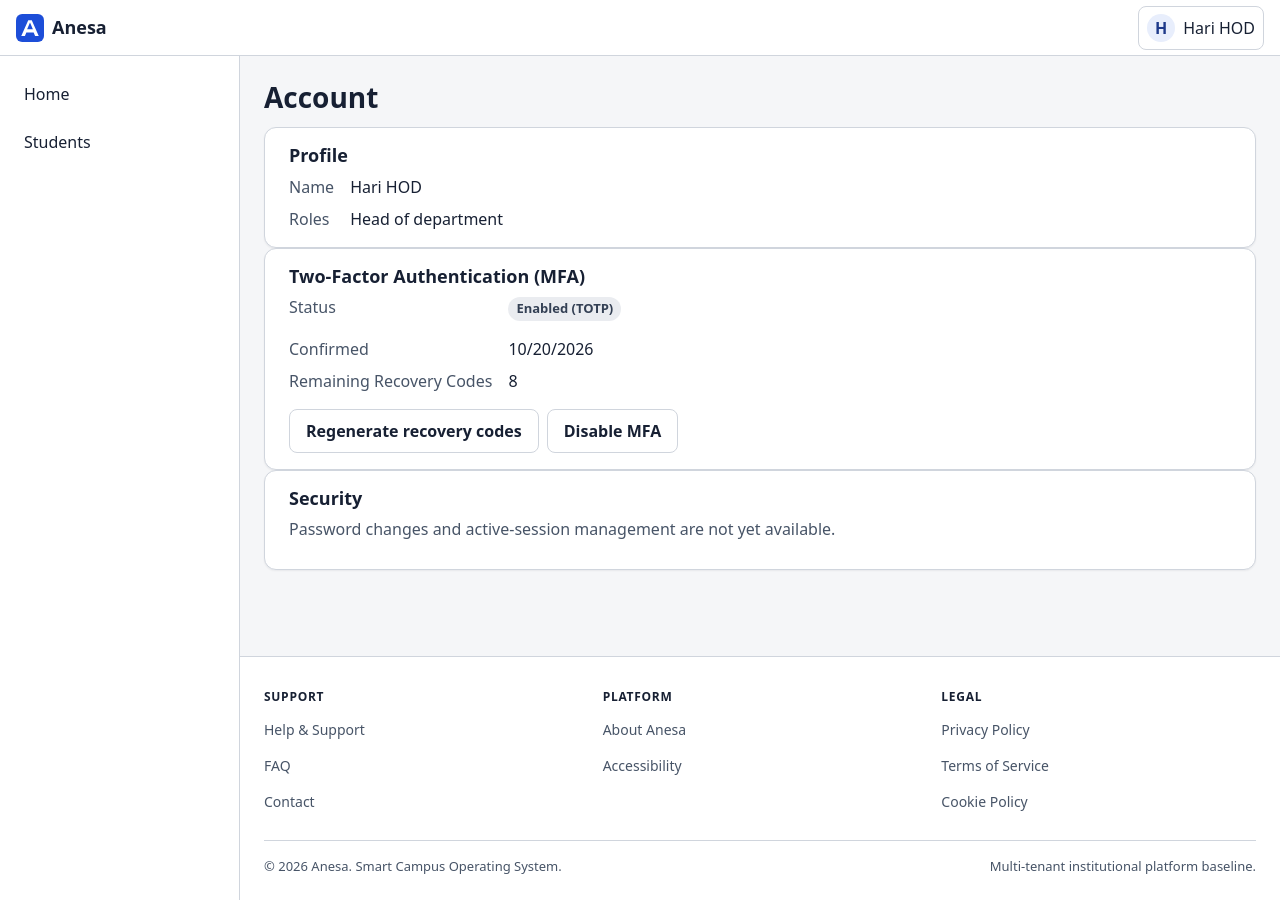
it: step-up on a CRITICAL operation (second factor, the backend default PASSWORD_MFA) › prompts, verifies with the authenticator code, then retries the operation exactly once
Click the button "Regenerate recovery codes" at {"x": 414, "y": 430}, box [289,408,539,452]
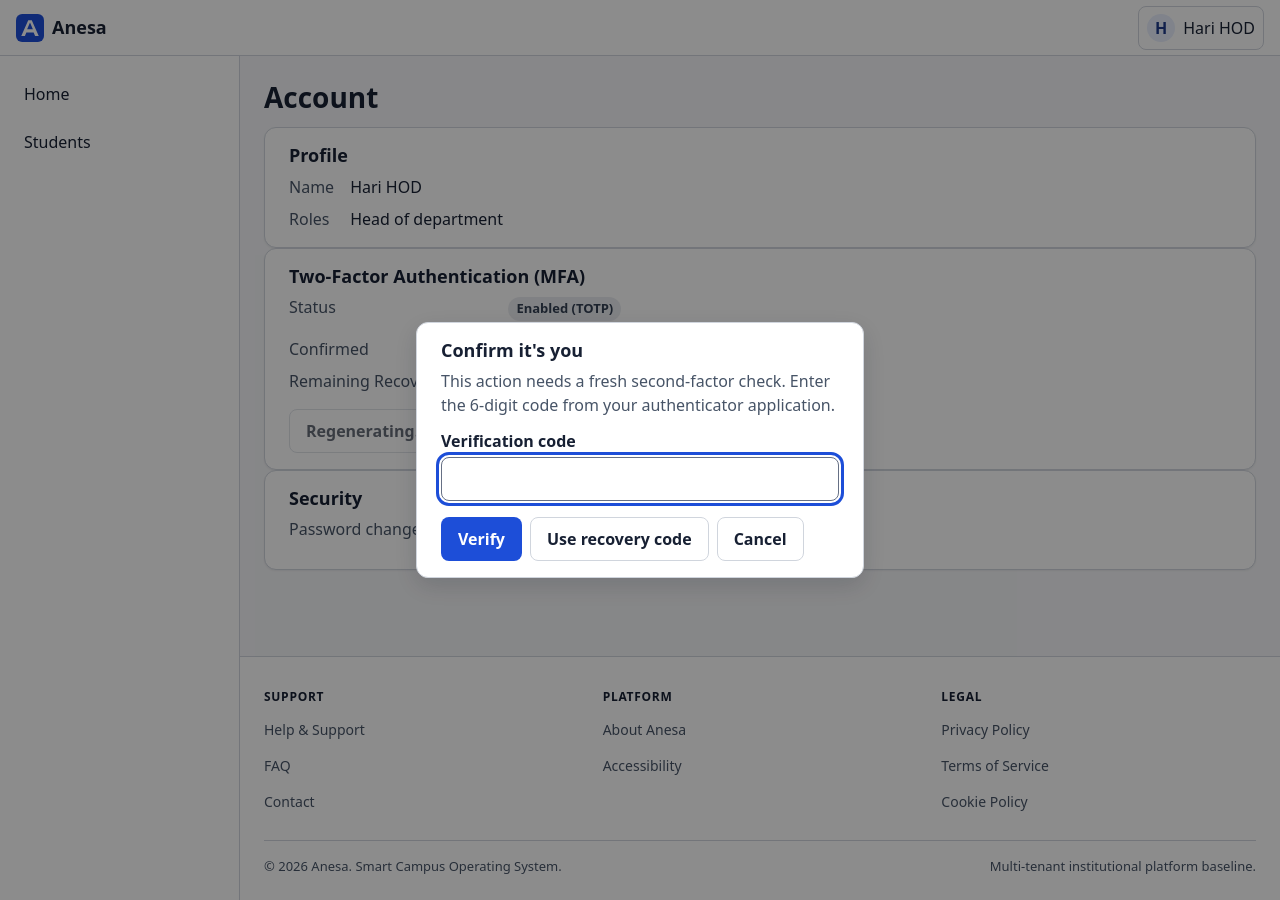
Type "123456" into the field labelled "Verification code" at {"x": 640, "y": 479}, box [441,457,839,501]
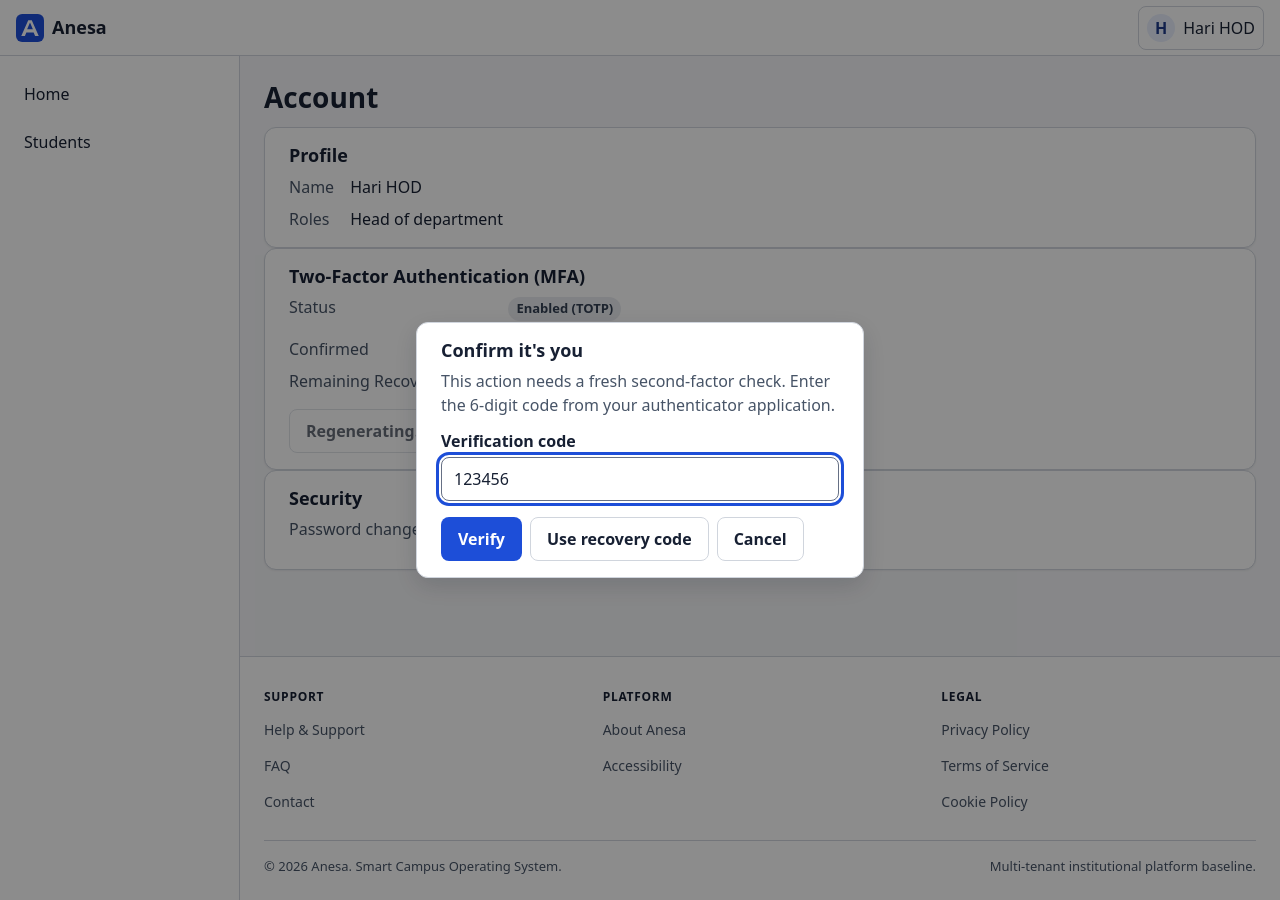
Click the button "Verify" at {"x": 482, "y": 539}, box [441,517,522,561]
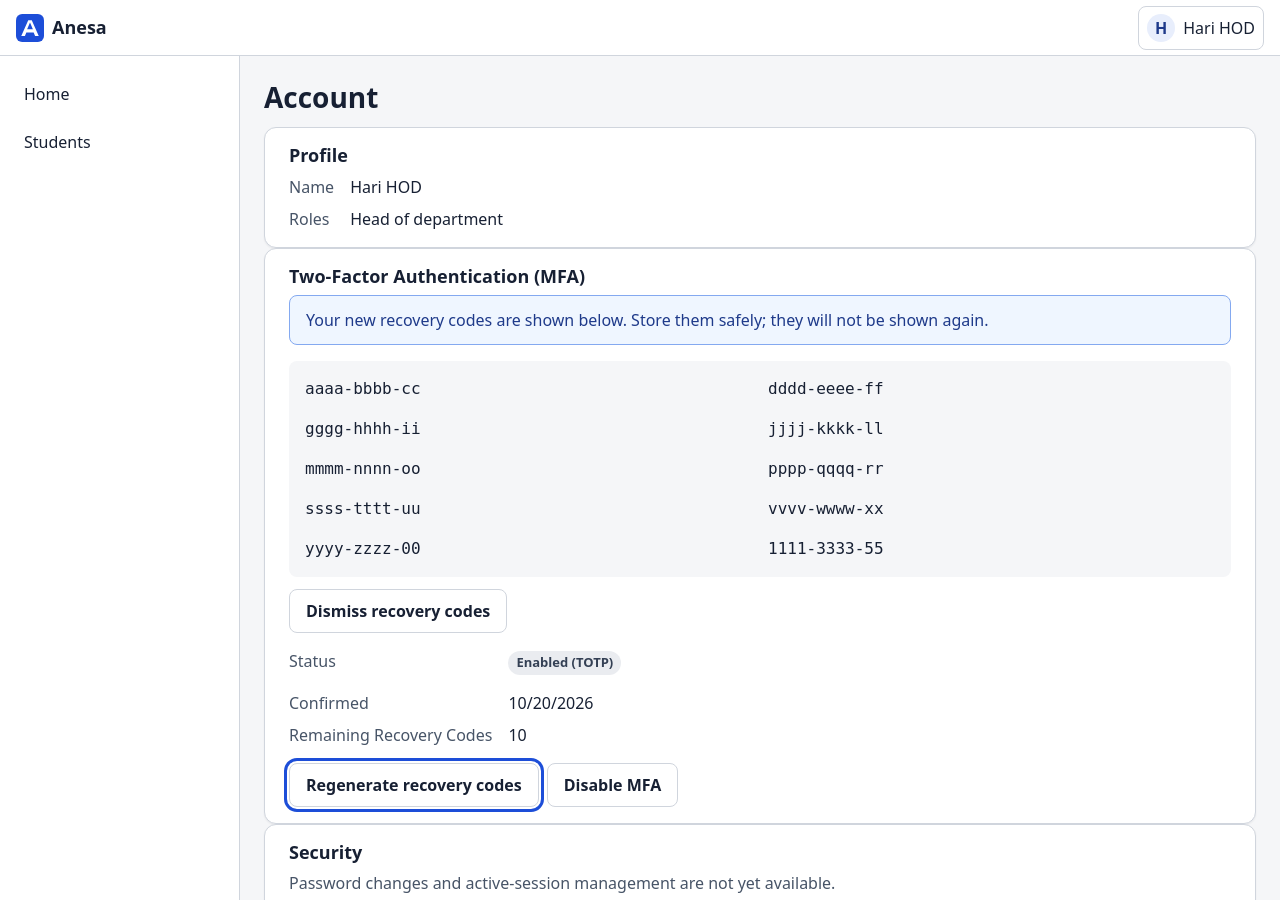
Check: the text "aaaa-bbbb-cc" is shown, box [305,379,421,398]
Check: the dialog is gone
